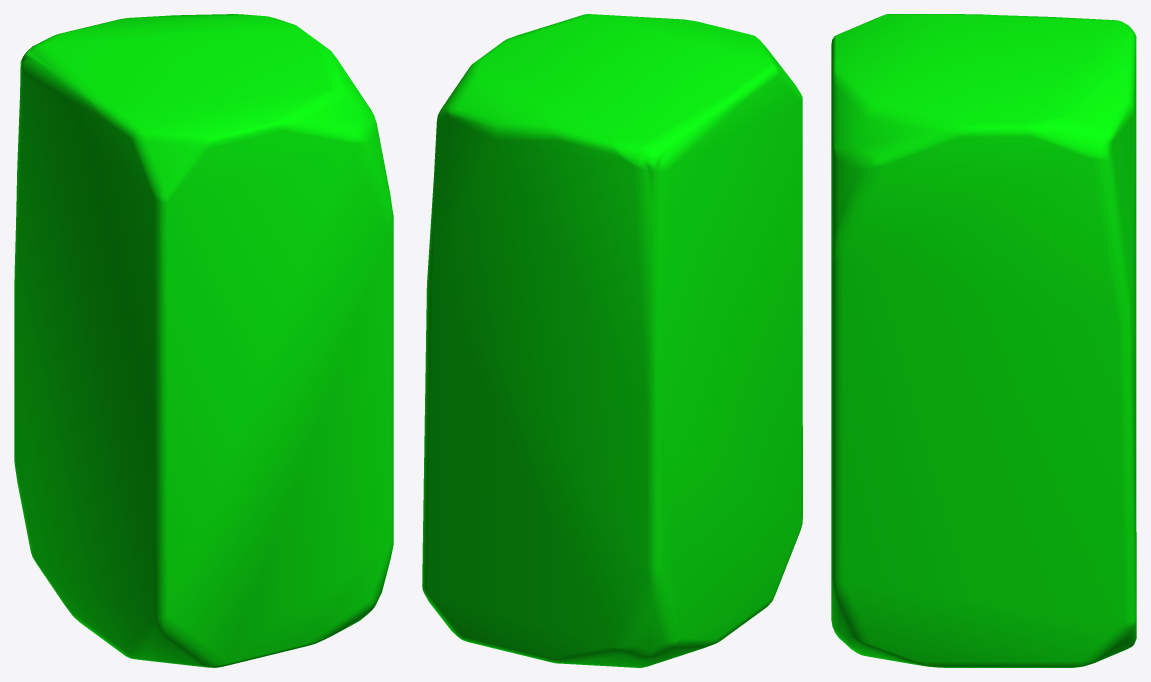
File: Green_Crystal_03.fbx
3 views of the same model, side by side, from view 1: azimuth 30°, elevation 25°; view 2: azimuth 150°, elevation 25°; view 3: azimuth 270°, elevation 25° (orthographic).
Visible parts, largest first — view 1: Green_Crystal_03; view 2: Green_Crystal_03; view 3: Green_Crystal_03.
Boxes of the visible parts, x1=… form: Green_Crystal_03: x1=14, y1=14, x2=393, y2=667; Green_Crystal_03: x1=422, y1=14, x2=802, y2=667; Green_Crystal_03: x1=831, y1=14, x2=1136, y2=667.
Bounding box in the file's own units: 1.2 × 2.58 × 1.31.
